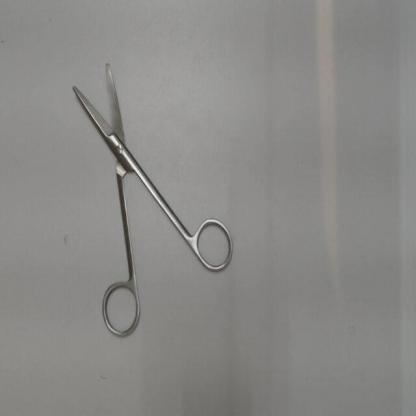Curved Mayo Scissors: (65, 47, 241, 346)
